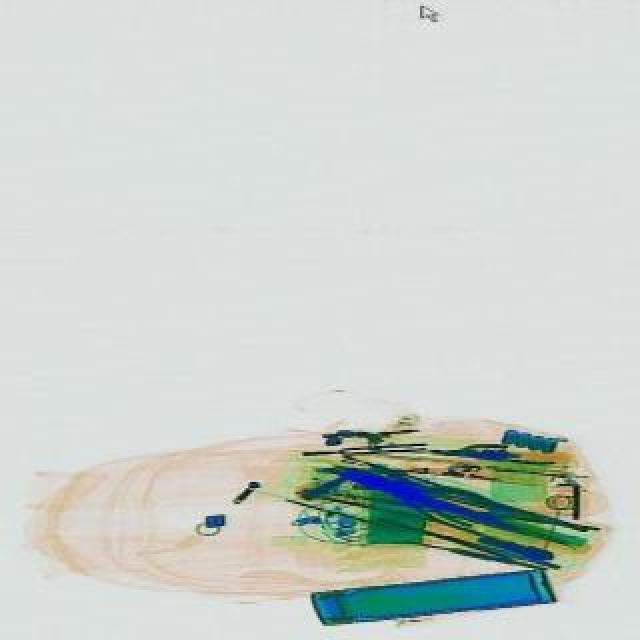wrench: (352, 444, 488, 532), (426, 440, 504, 460)
